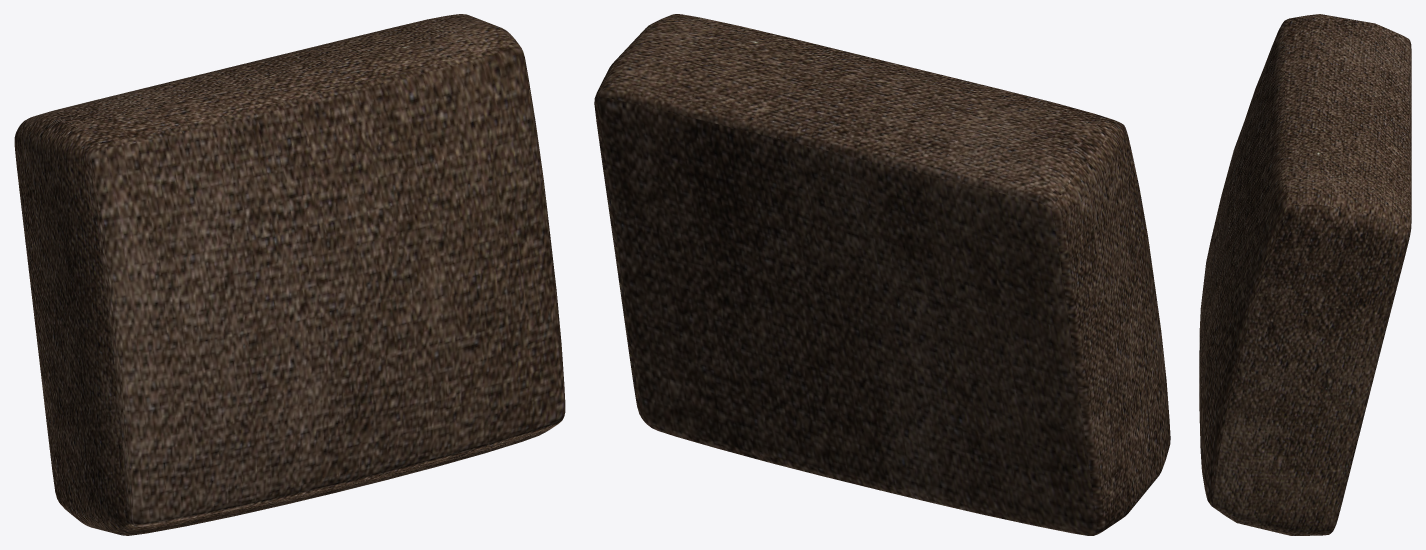
Rendered from SofaJardin-cojin.gltf.
The picture shows the model from 3 angles, left to right: view 1: azimuth 30°, elevation 25°; view 2: azimuth 150°, elevation 25°; view 3: azimuth 270°, elevation 25°; orthographic projection. The views are drawn at different scales.
Visible parts, largest first — view 1: Cube.056; view 2: Cube.056; view 3: Cube.056.
Part boxes in pixels (<box>): Cube.056: <box>14,14,565,535</box>; Cube.056: <box>594,14,1170,535</box>; Cube.056: <box>1199,14,1411,535</box>.
Bounding box in the file's own units: 2.73 × 2.24 × 1.23.
1 material, 1 textured.
